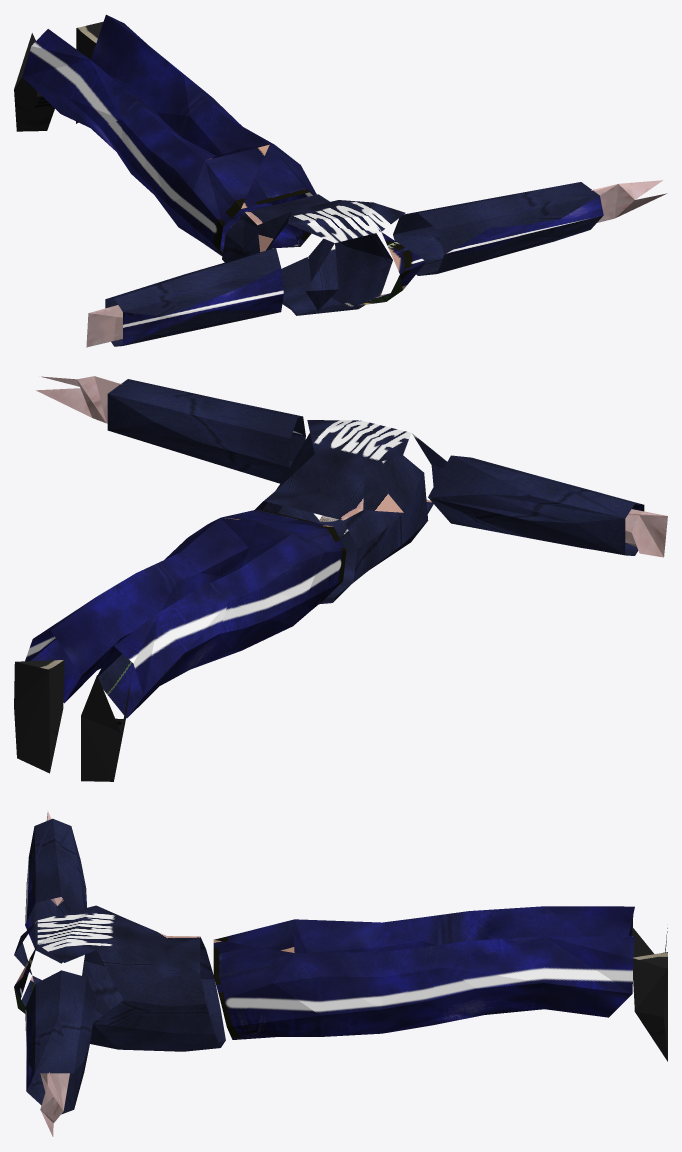
The model's file is tomdrinman1is5policelow_wtf.obj.
3 renders of one model, top to bottom at view 1: azimuth 30°, elevation 25°; view 2: azimuth 150°, elevation 25°; view 3: azimuth 270°, elevation 25°, orthographic. The views are drawn at different scales.
Parts seen in each view (by area): view 1: group1, group4, group6, group5, group7, group3, group2; view 2: group1, group4, group5, group6, group7, group3, group2; view 3: group1, group4, group6, group5, group7, group3.
Part boxes in pixels (left/top/right/bottom): group1: left=22, top=14, right=316, bottom=255; group4: left=222, top=194, right=426, bottom=315; group6: left=393, top=182, right=603, bottom=275; group5: left=105, top=248, right=283, bottom=346; group7: left=14, top=21, right=103, bottom=131; group3: left=591, top=180, right=667, bottom=222; group2: left=86, top=305, right=122, bottom=347; group1: left=25, top=509, right=346, bottom=718; group4: left=255, top=420, right=446, bottom=604; group5: left=428, top=455, right=644, bottom=555; group6: left=107, top=379, right=305, bottom=483; group7: left=14, top=660, right=130, bottom=781; group3: left=36, top=376, right=122, bottom=423; group2: left=625, top=509, right=667, bottom=557; group1: left=213, top=906, right=634, bottom=1039; group4: left=14, top=905, right=225, bottom=1051; group6: left=25, top=970, right=96, bottom=1114; group5: left=25, top=818, right=86, bottom=963; group7: left=632, top=926, right=667, bottom=1061; group3: left=40, top=1072, right=69, bottom=1136.
Size of the model in its own units: 610 by 118 by 558.
